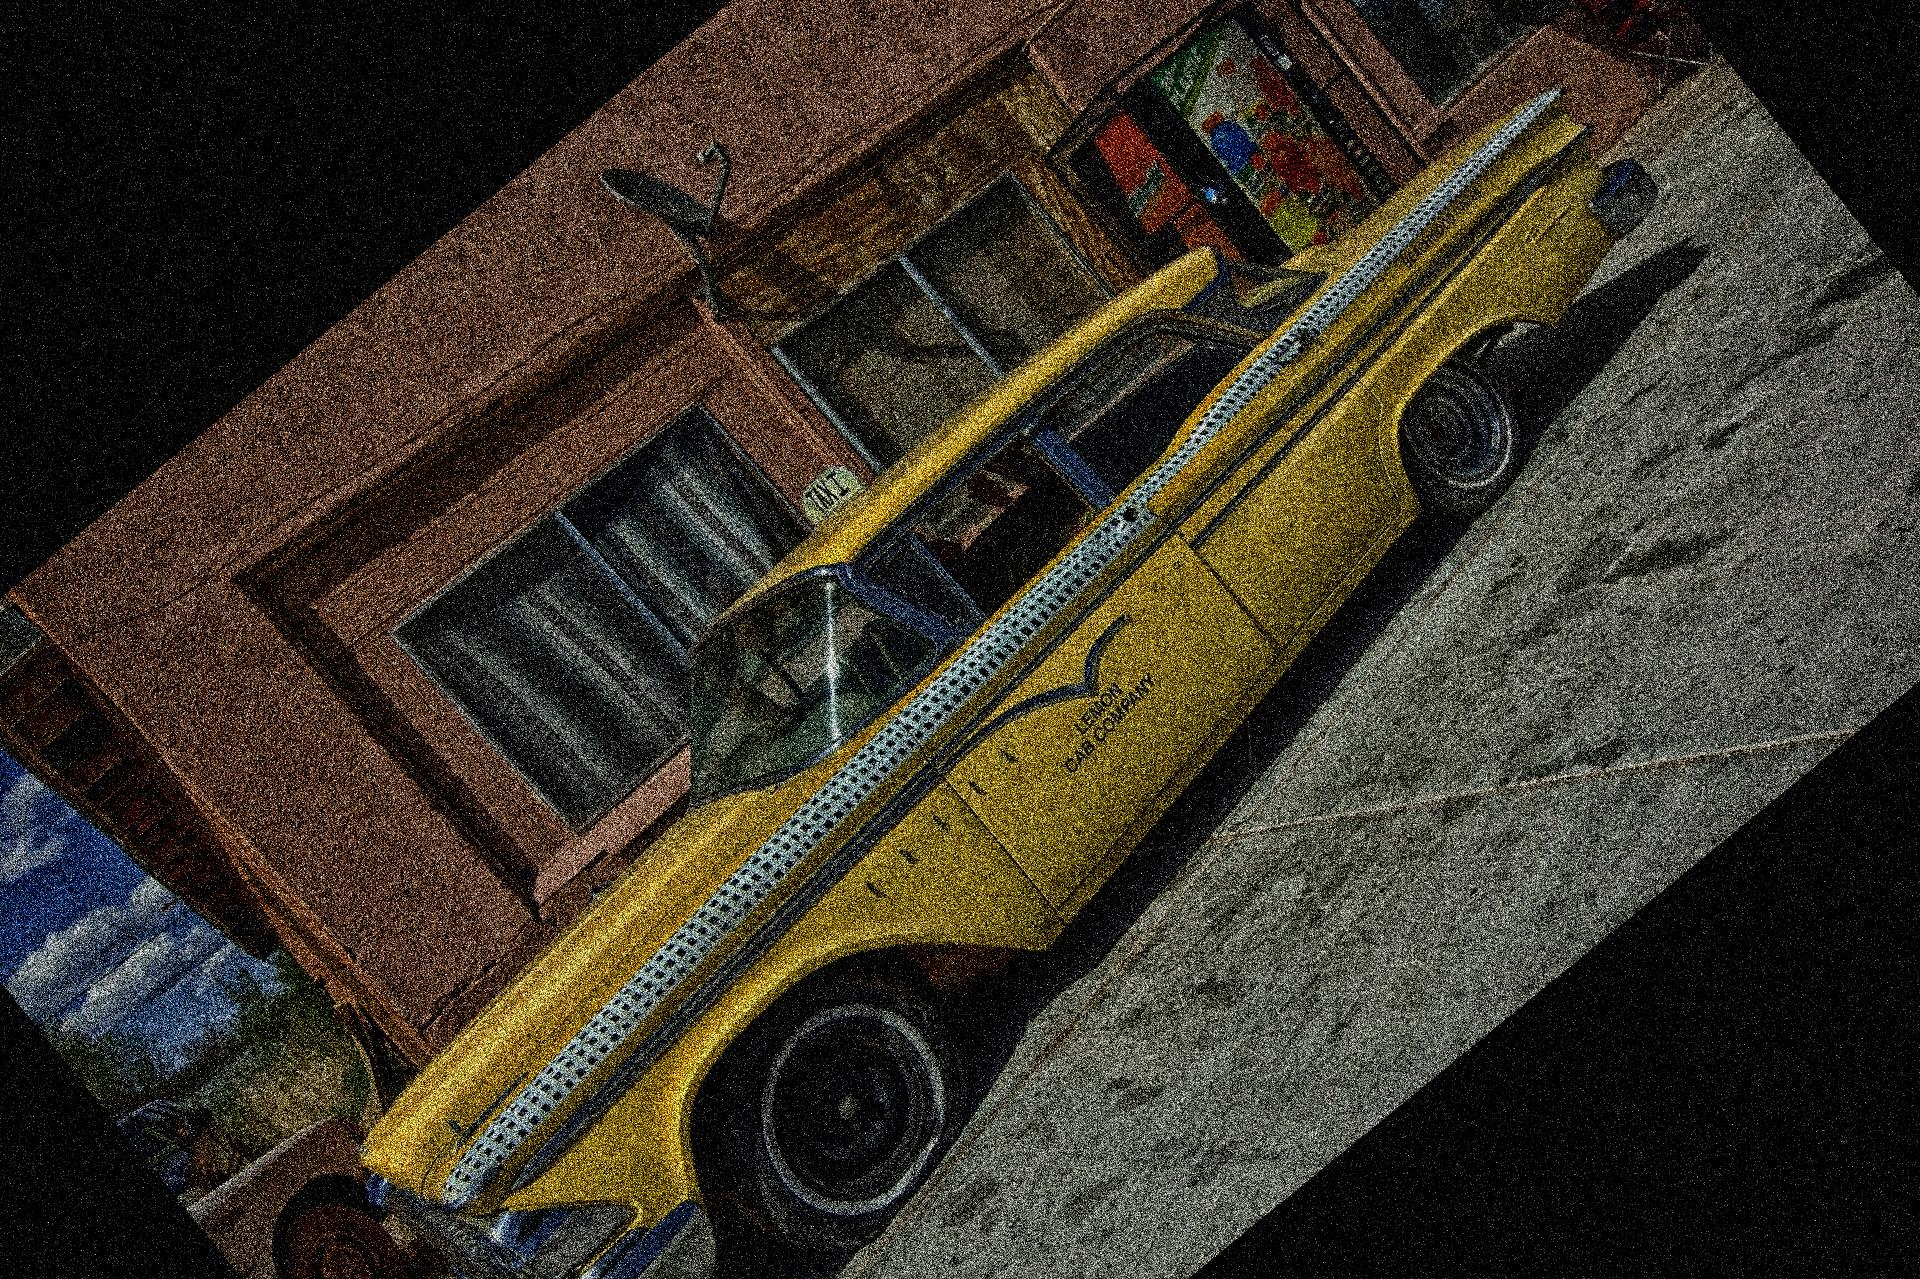taxi: (338, 76, 1644, 1250)
